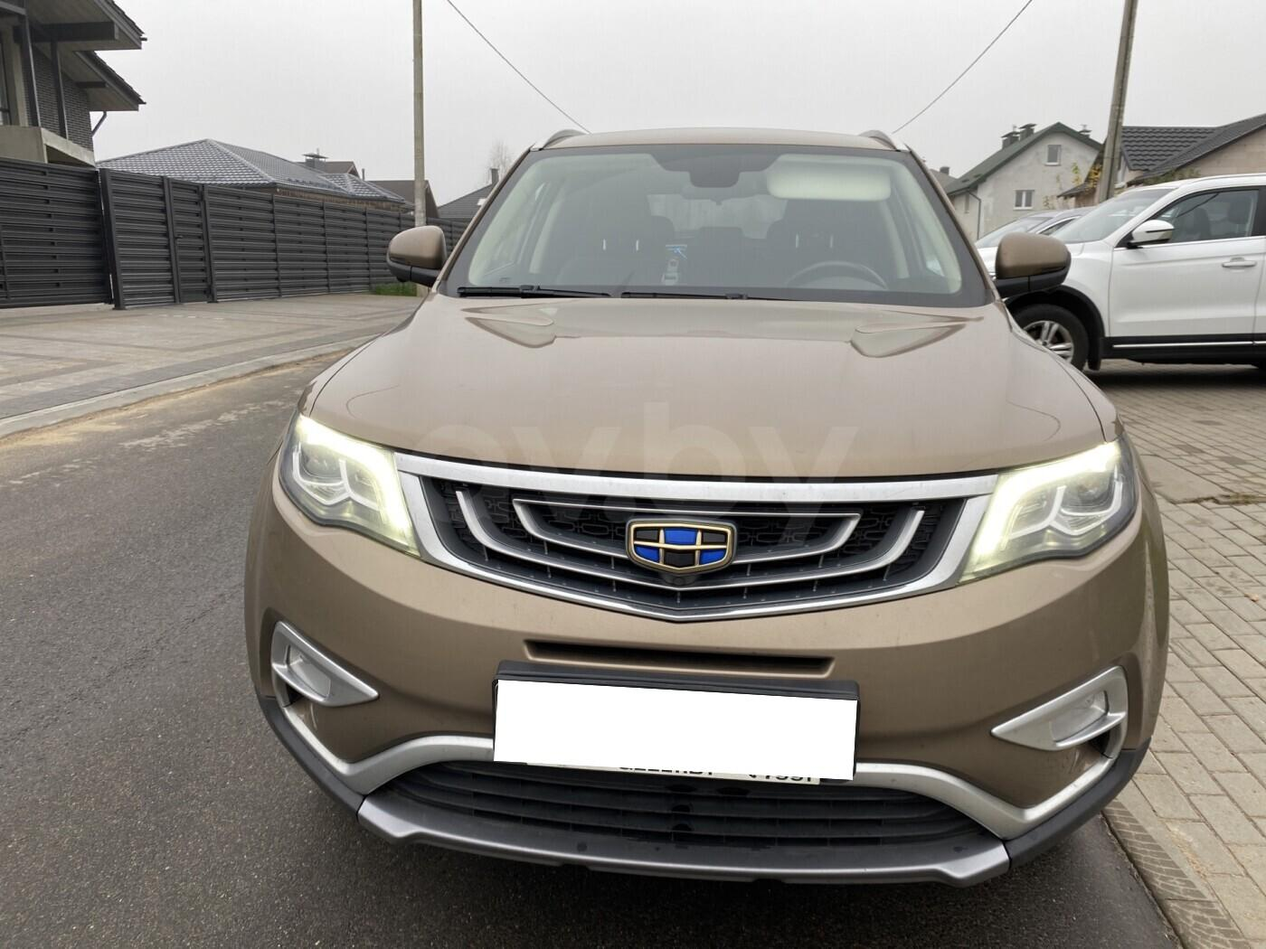Atlas_2016-2023: (240, 111, 1173, 901)
